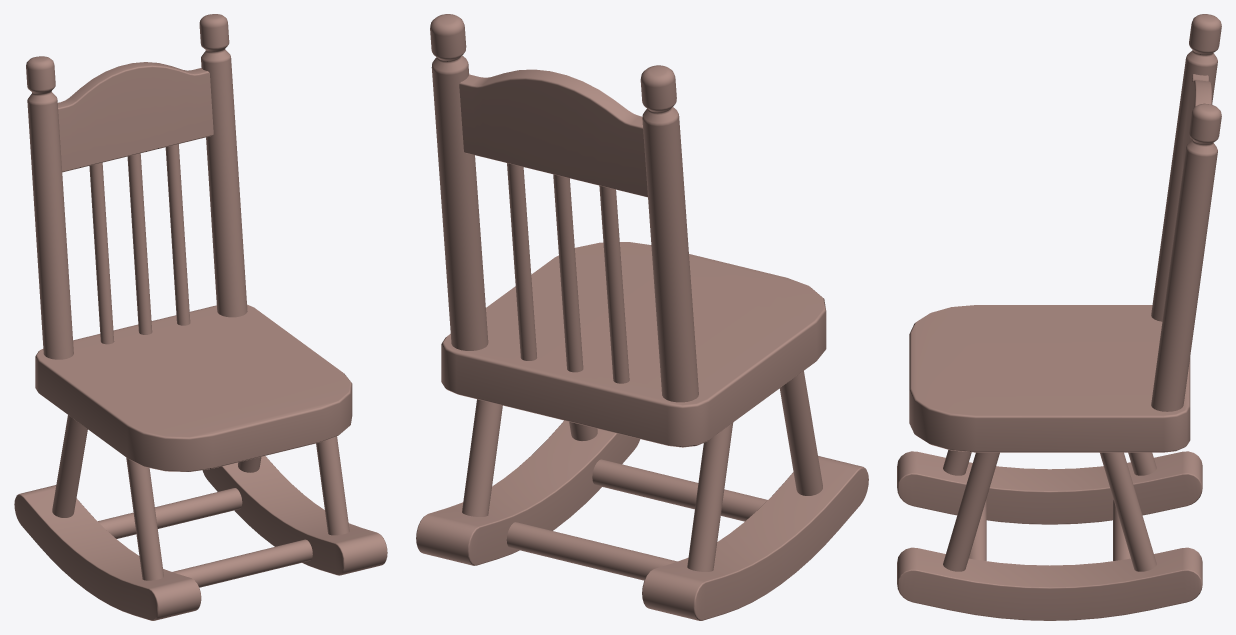
The model's file is Town_12_Rocking_Chair_1.glb.
3 renders of one model, left to right at view 1: azimuth 30°, elevation 25°; view 2: azimuth 150°, elevation 25°; view 3: azimuth 270°, elevation 25°, orthographic. The views are drawn at different scales.
Visible parts, largest first — view 1: Town_12_Rocking_Chair_1; view 2: Town_12_Rocking_Chair_1; view 3: Town_12_Rocking_Chair_1.
Boxes of the visible parts, x1,y1,x2,y2 form: Town_12_Rocking_Chair_1: (14,14,387,620); Town_12_Rocking_Chair_1: (416,14,868,620); Town_12_Rocking_Chair_1: (897,14,1221,620).
Bounding box in the file's own units: 0.7492 × 1.47 × 0.8637.
Materials: 1 (1 with a texture image).
